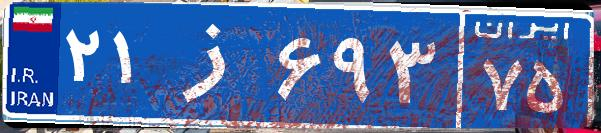1: (110, 28, 158, 105)
2: (57, 26, 110, 107)
3: (385, 28, 445, 110)
5: (525, 38, 570, 115)
6: (273, 28, 330, 110)
7: (475, 38, 525, 113)
9: (330, 28, 385, 110)
ز: (158, 15, 273, 115)
